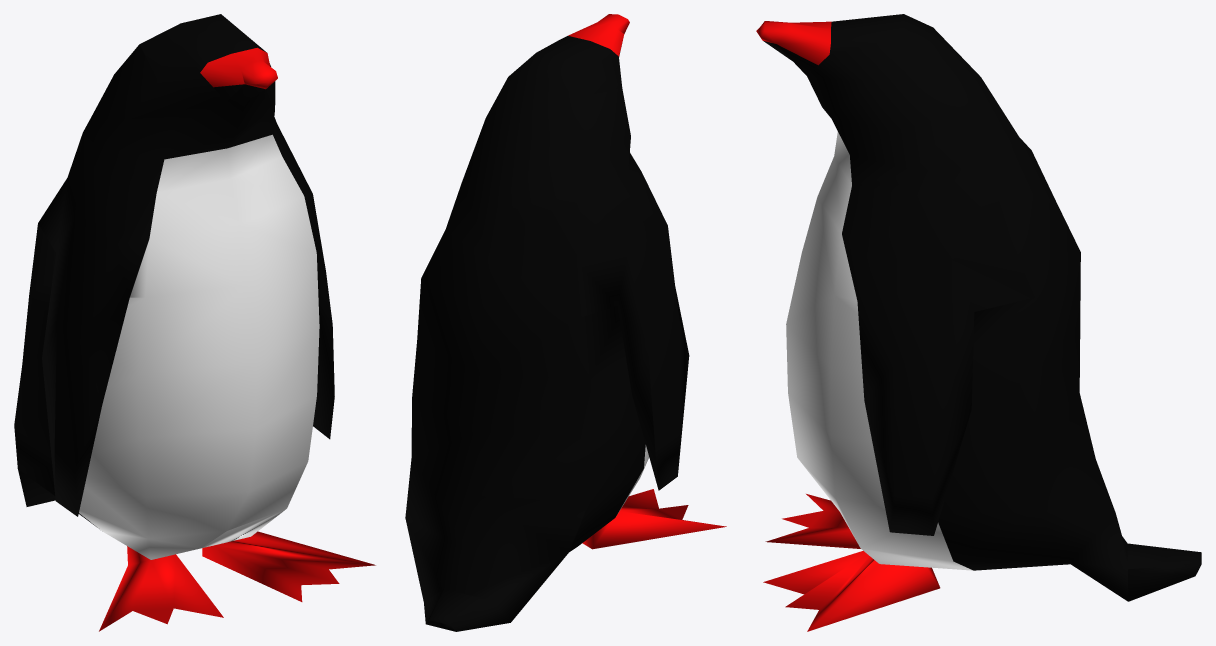
The model's file is pen.obj.
3 views of the same model, side by side, from view 1: azimuth 30°, elevation 25°; view 2: azimuth 150°, elevation 25°; view 3: azimuth 270°, elevation 25° (orthographic). The views are drawn at different scales.
Visible parts, largest first — view 1: penguin_pen; view 2: penguin_pen; view 3: penguin_pen.
Part boxes in pixels (x1,y1,x2,y2): penguin_pen: (14,14,375,631); penguin_pen: (405,14,726,631); penguin_pen: (756,14,1201,631).
Bounding box in the file's own units: 2.75 × 5.2 × 3.76.
